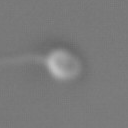normal: (1, 42, 47, 80)
